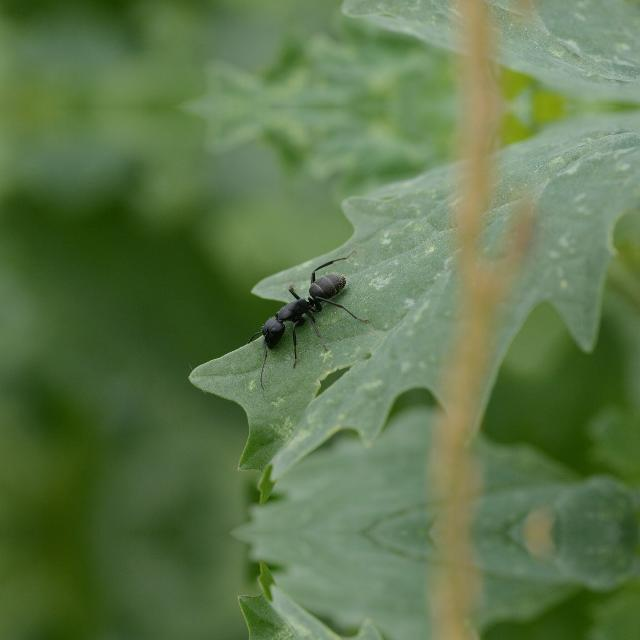Camponotus: (238, 254, 364, 362)
